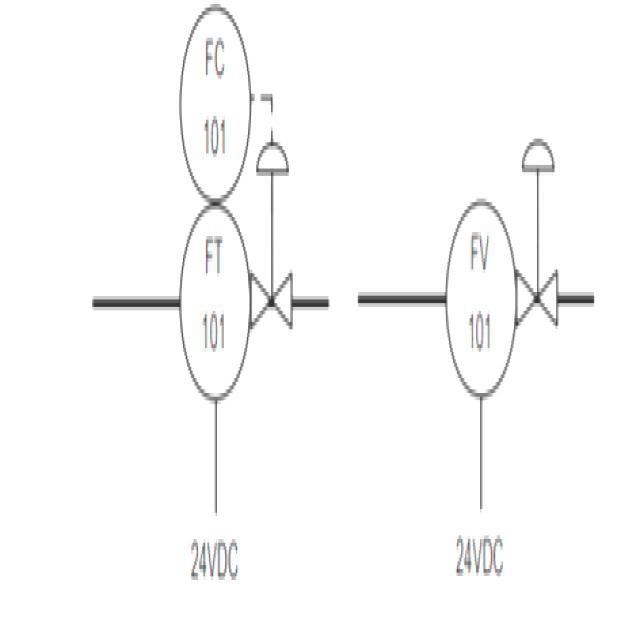Pneumatic-Diaphragm Gate Valve: (514, 123, 566, 340), (250, 128, 296, 338)
